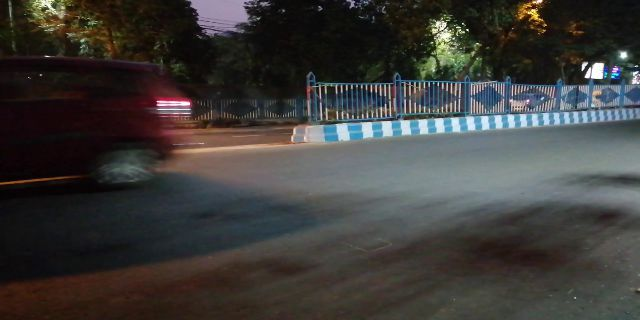Car: (9, 55, 203, 185)
